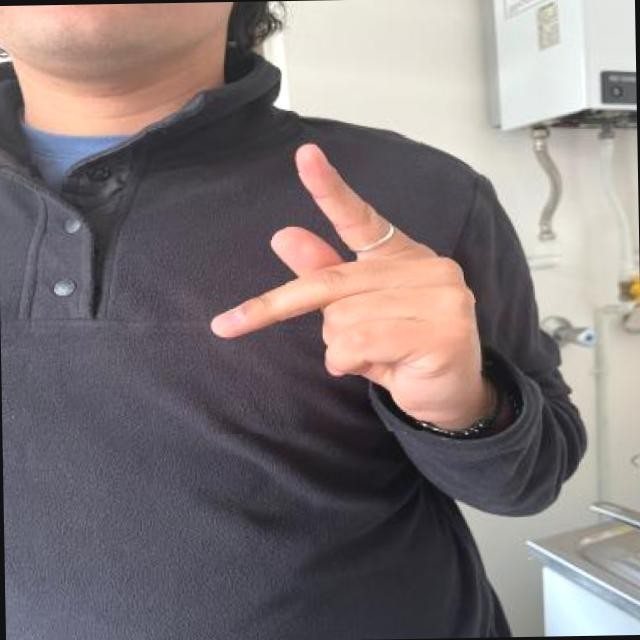K: (202, 133, 493, 434)
